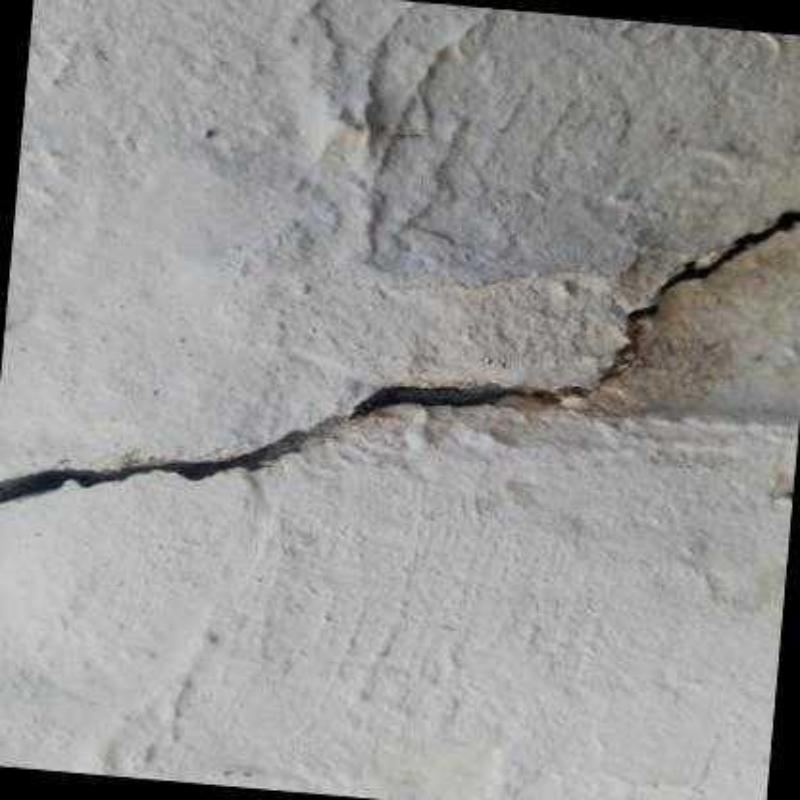pothole: (0, 206, 800, 506)
